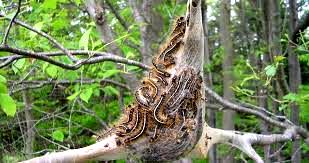Caterpillar: (122, 109, 149, 145), (118, 106, 140, 139), (167, 69, 186, 104), (153, 95, 168, 126), (162, 42, 183, 63), (167, 15, 184, 38), (150, 60, 170, 77), (168, 28, 185, 48), (133, 94, 151, 110), (147, 77, 159, 99), (150, 126, 162, 144), (156, 74, 169, 87)
